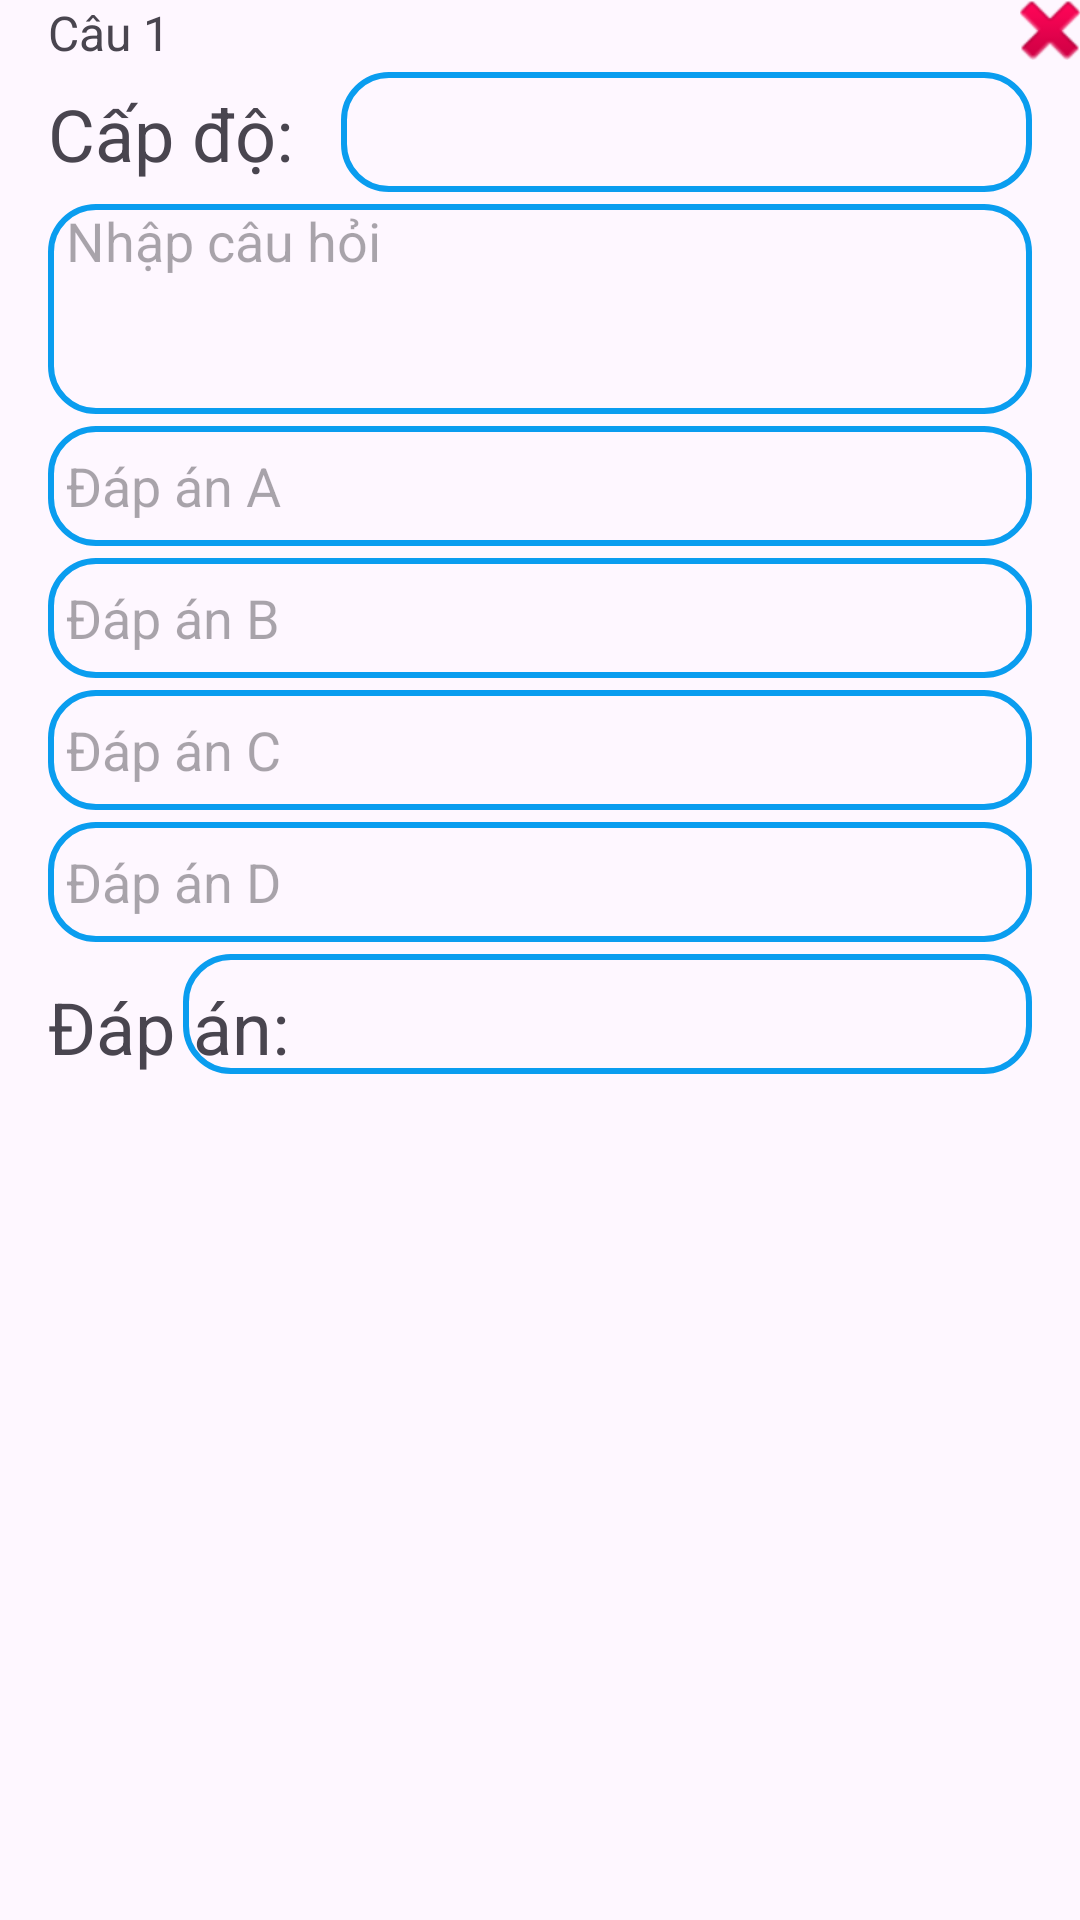

Icon click points for this 1080px×1920px phone screenshot, format (x,y):
delete: (1050,30)
